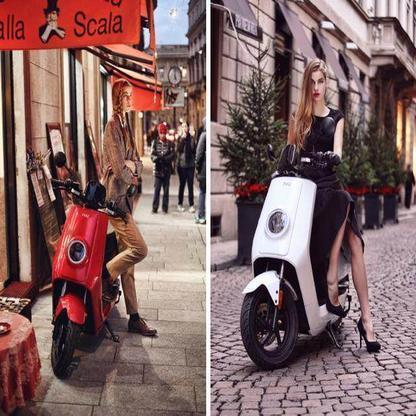target: (241, 58, 382, 367), (49, 80, 158, 378)
